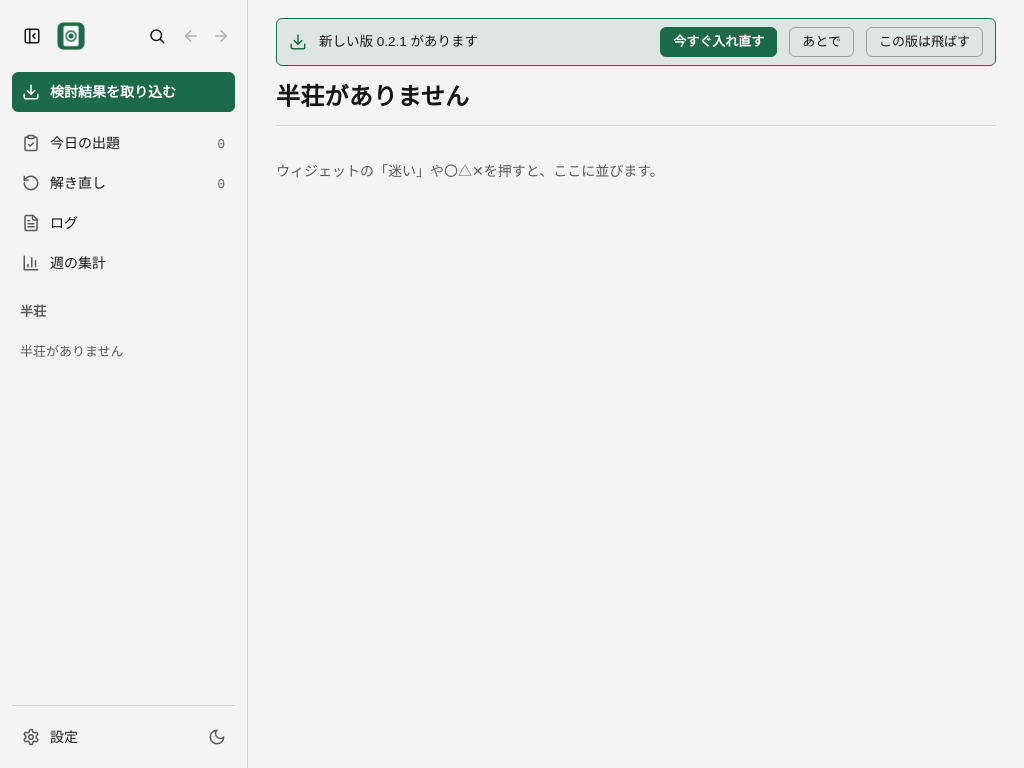
更新の帯（U-51） › 設定のページには帯を出さない（同じ案内を「更新」の欄が出す）。ほかのページには出る
The width and height of the screenshot is (1024, 768).
Click the button "設定": (104, 737) [12,718,195,756]
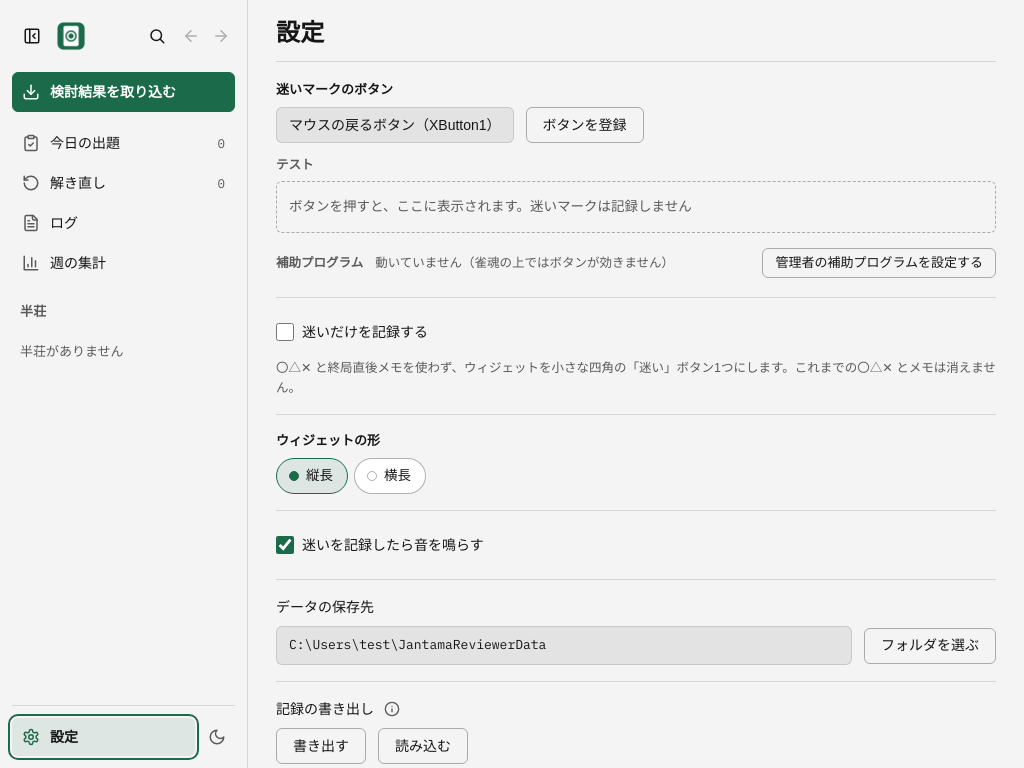
Expected: the heading "設定" is shown, [276,18,324,49]
Expected: the element "アプリの更新" is gone
Click the button "週の集計": (124, 263) [12,244,235,282]
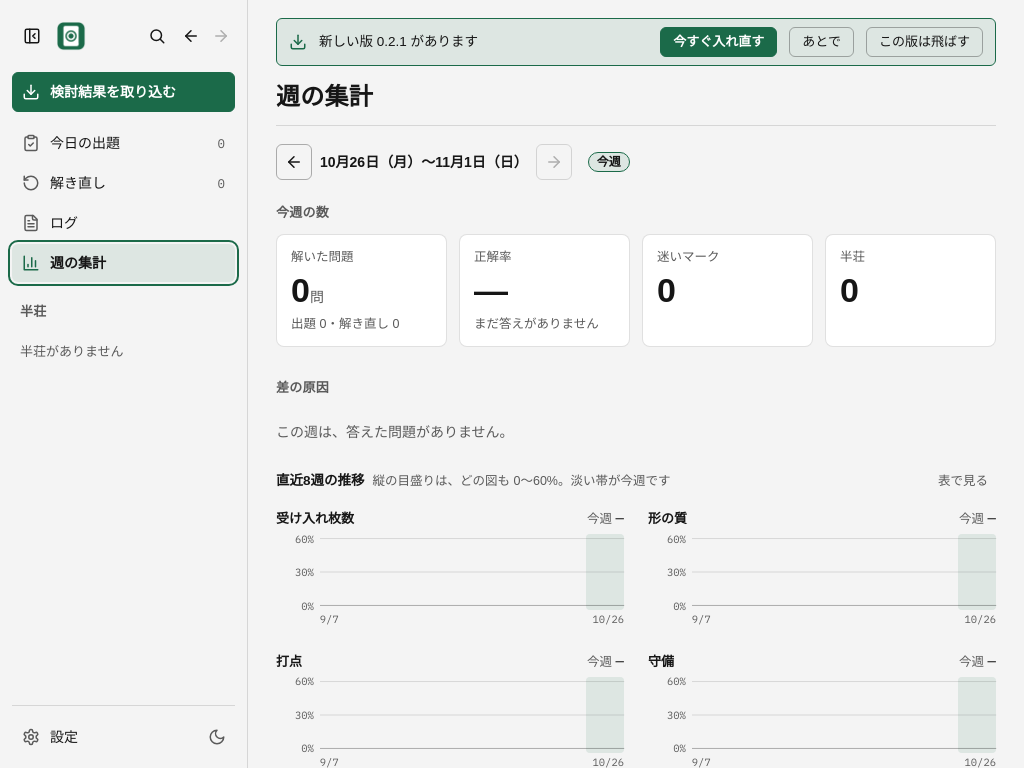
Expected: the heading "週の集計" is shown, [276,82,373,113]
Expected: the element named "アプリの更新" is shown, [276,18,996,66]
